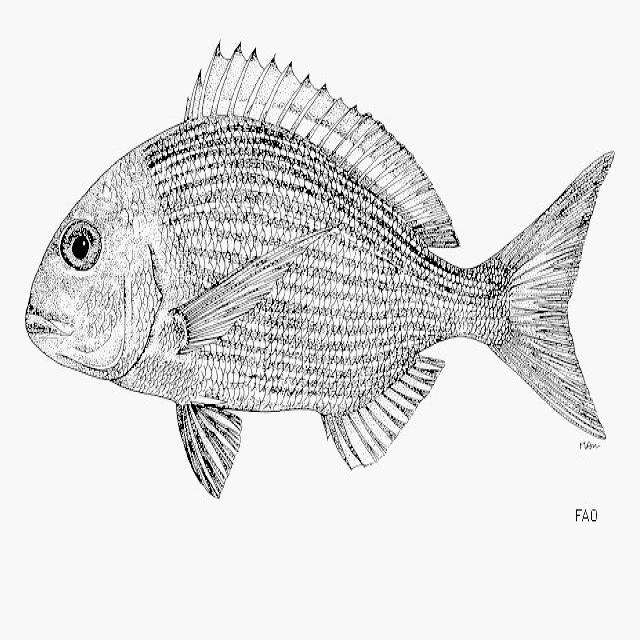ikan: (24, 37, 615, 499)
